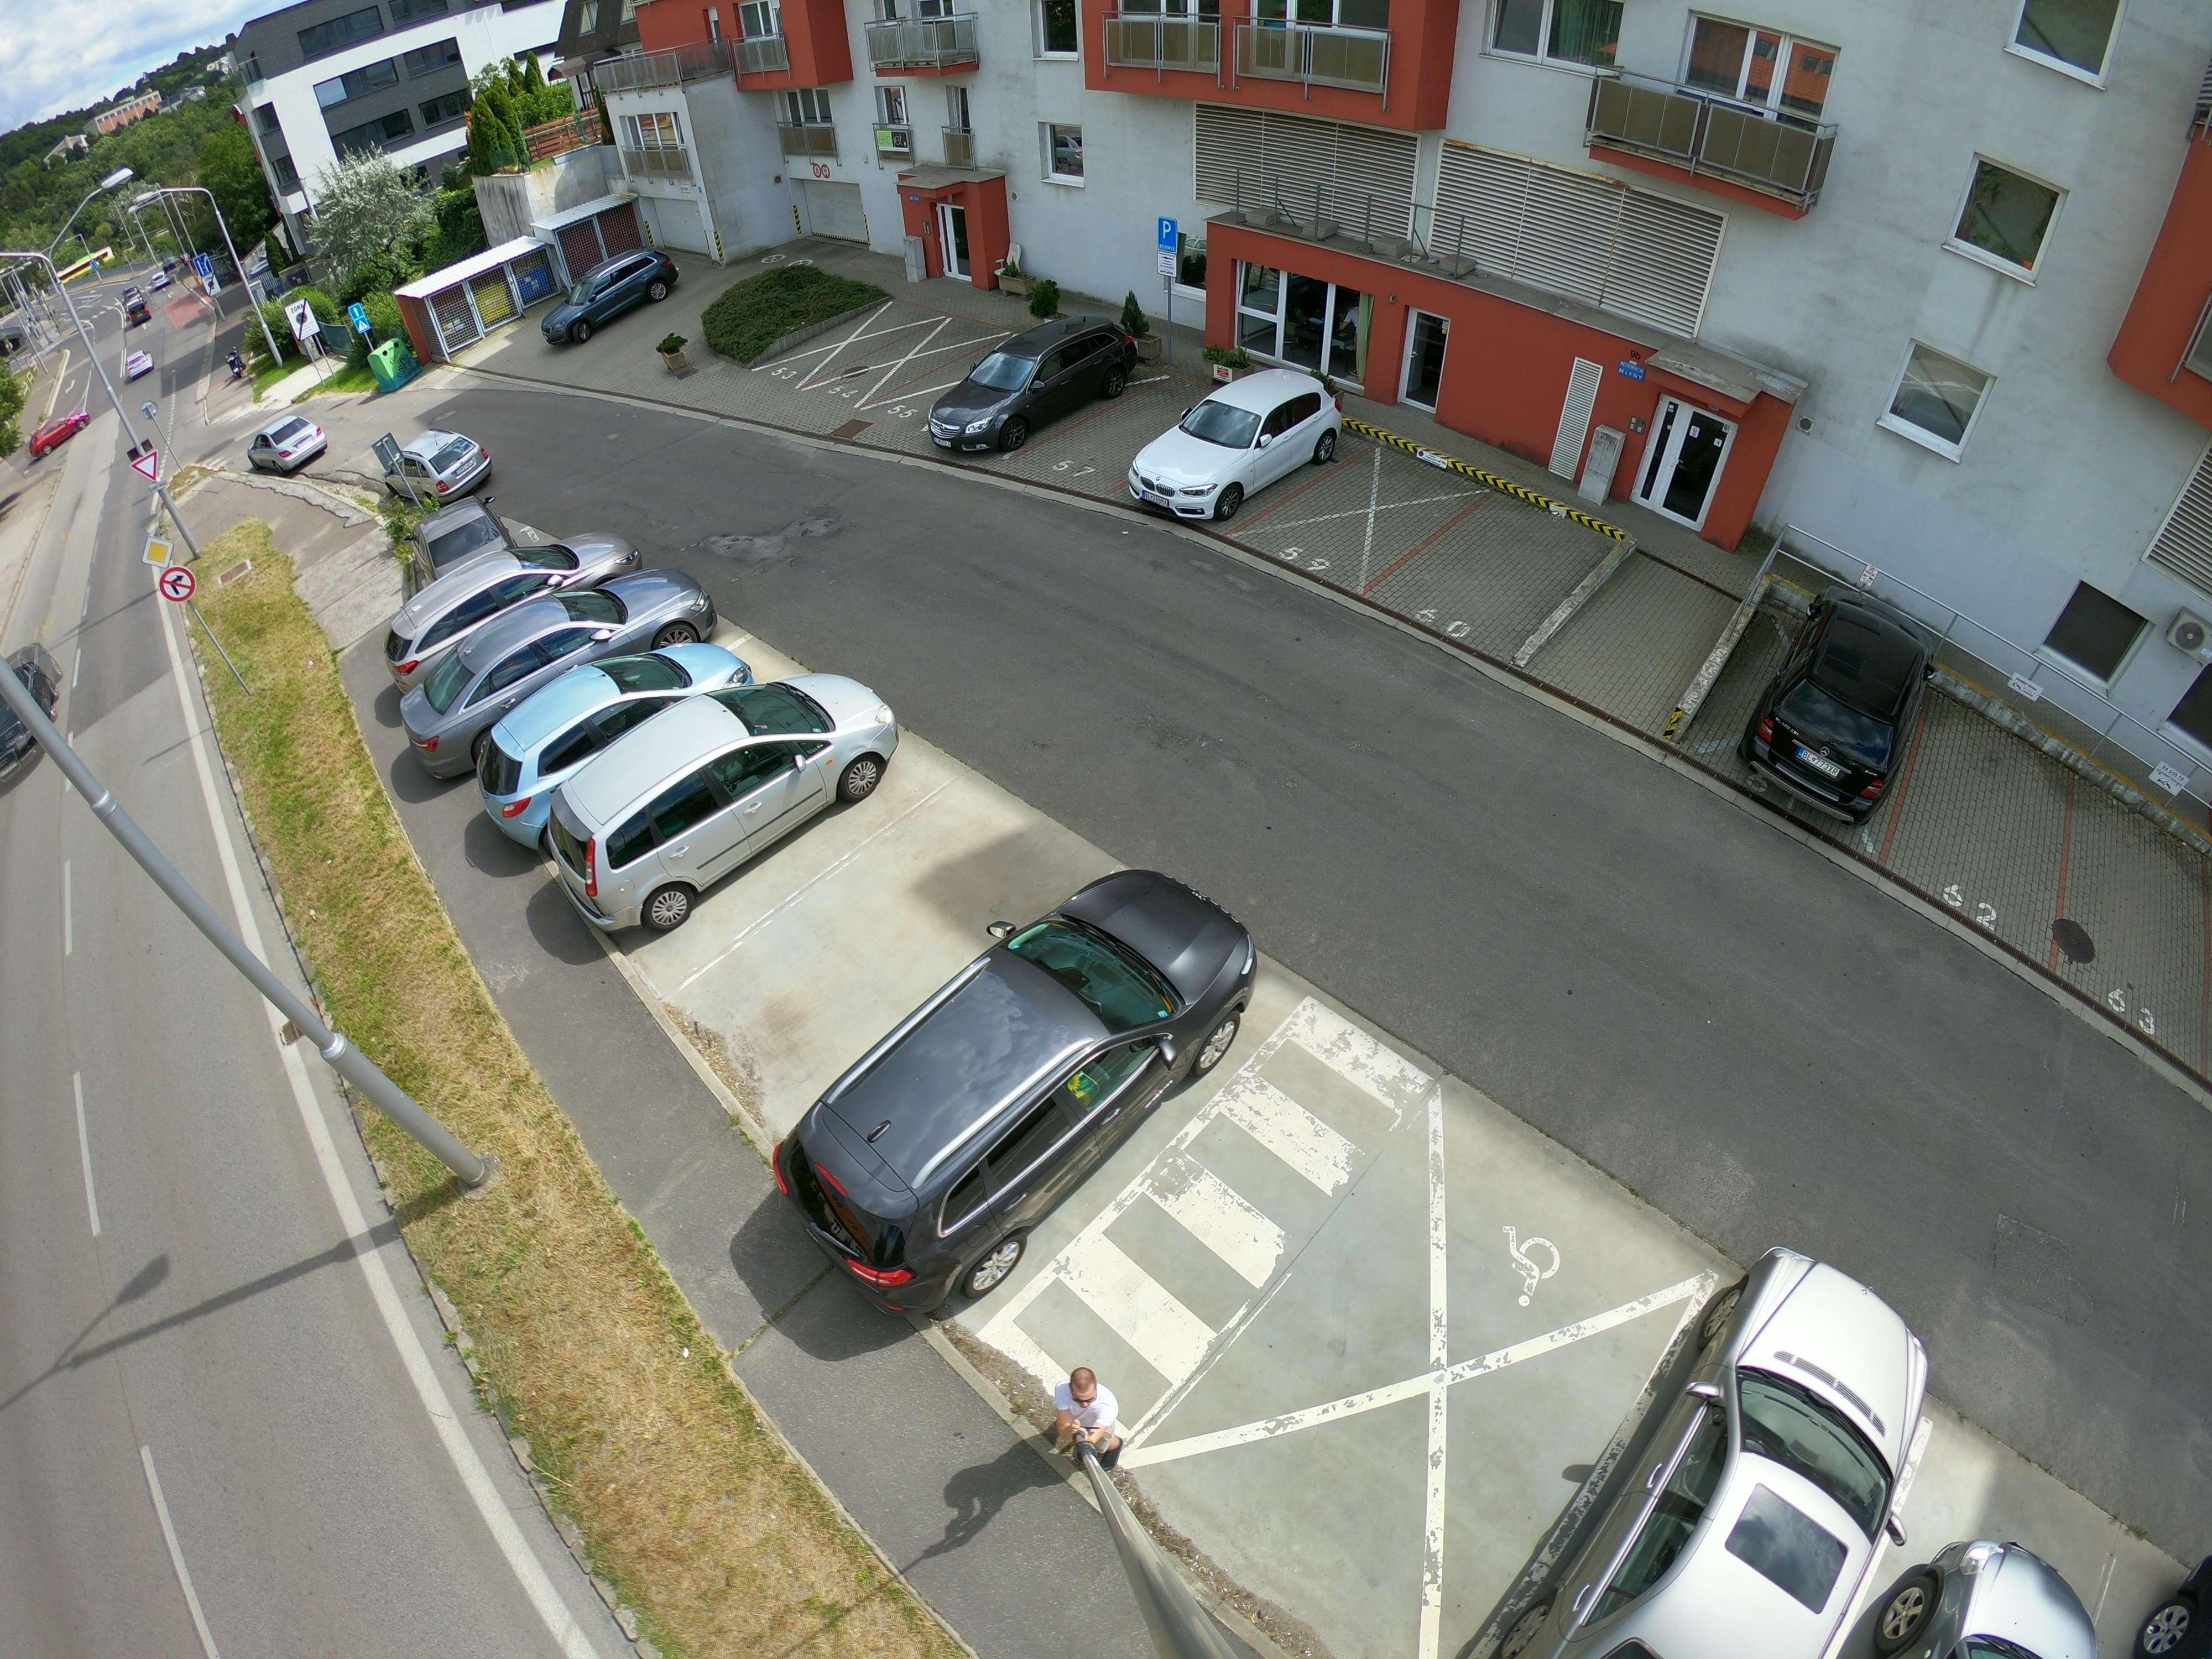empty: (786, 887, 1263, 1293), (1562, 1248, 1961, 1659), (516, 664, 920, 925), (413, 568, 705, 730), (1118, 364, 1346, 521), (1879, 1527, 2139, 1659), (402, 603, 620, 755), (928, 312, 1139, 457), (369, 430, 496, 502), (251, 411, 338, 476)
occupied: (758, 873, 979, 1014), (1925, 749, 2043, 918), (2088, 847, 2193, 1023), (1430, 518, 1545, 647), (1299, 465, 1411, 572), (1075, 401, 1177, 457), (862, 343, 937, 390), (815, 331, 876, 359)
